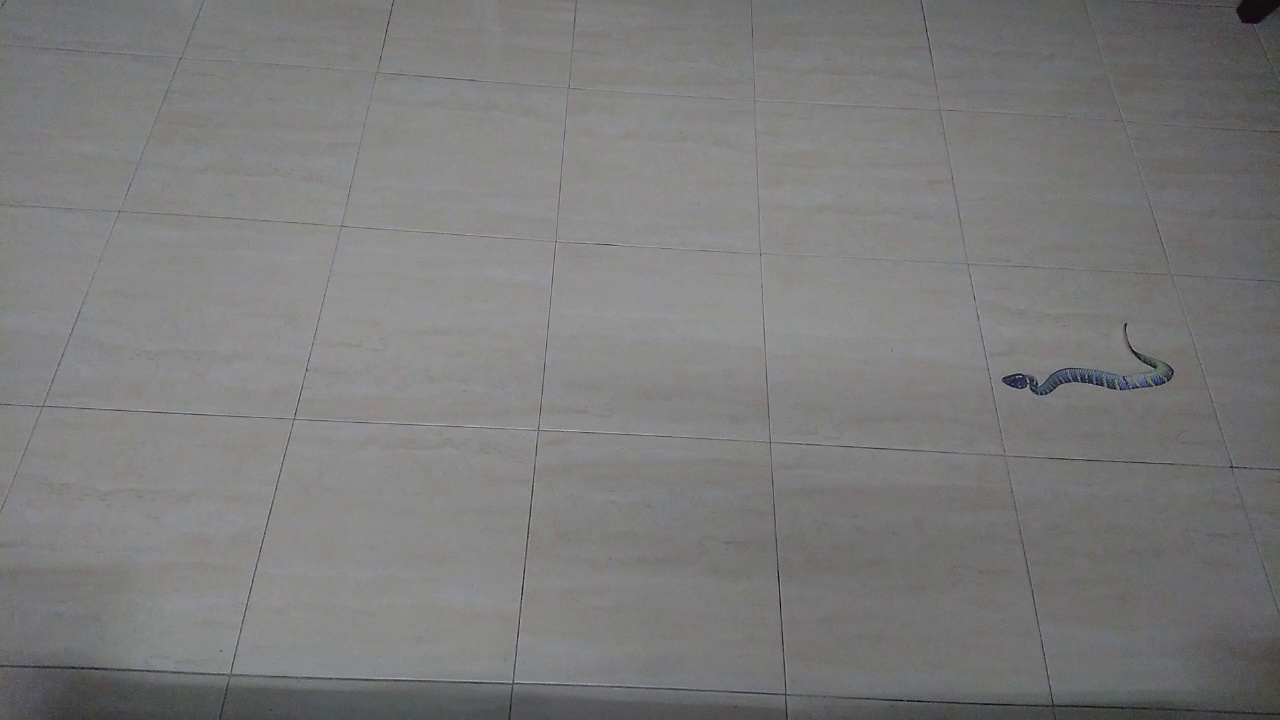snake: (983, 310, 1200, 415)
